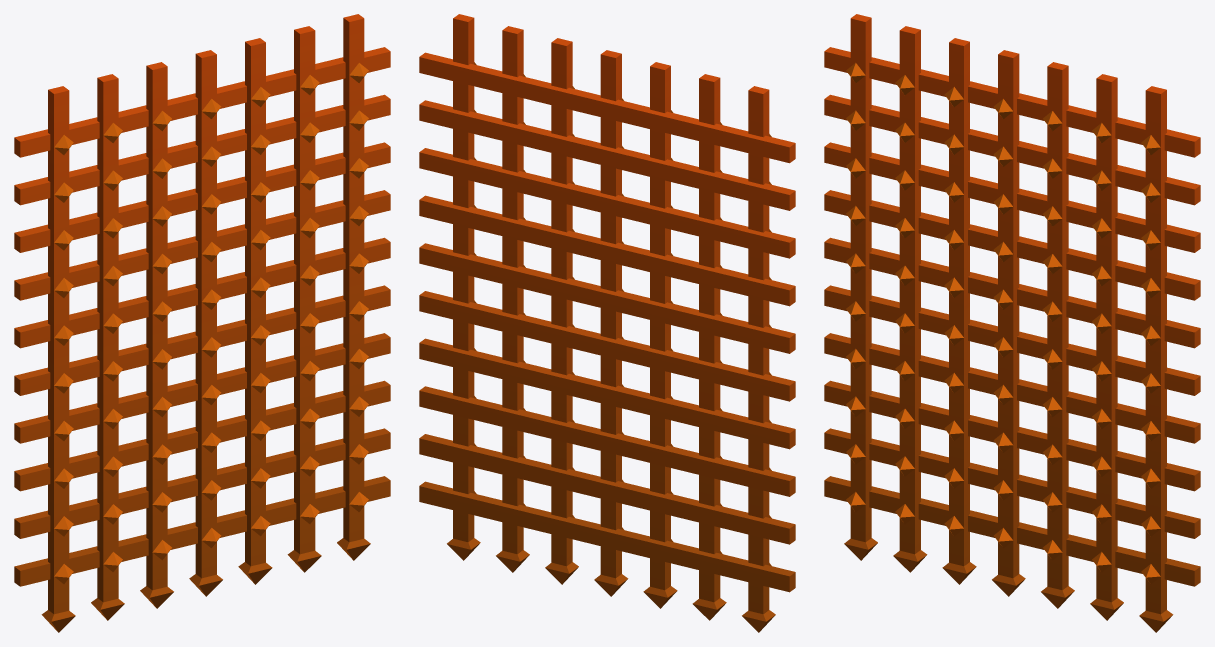
File: Portcullis_01.glb
The picture shows the model from 3 angles, left to right: view 1: azimuth 30°, elevation 25°; view 2: azimuth 150°, elevation 25°; view 3: azimuth 330°, elevation 25°; orthographic projection.
Visible parts, largest first — view 1: Portcullis_01; view 2: Portcullis_01; view 3: Portcullis_01.
Boxes of the visible parts, x1,y1,x2,y2 form: Portcullis_01: (14,14,390,632); Portcullis_01: (419,14,795,632); Portcullis_01: (824,14,1200,632).
Size of the model in its own units: 2.35 by 3.3 by 0.1865.
Materials: 1 (1 with a texture image).
